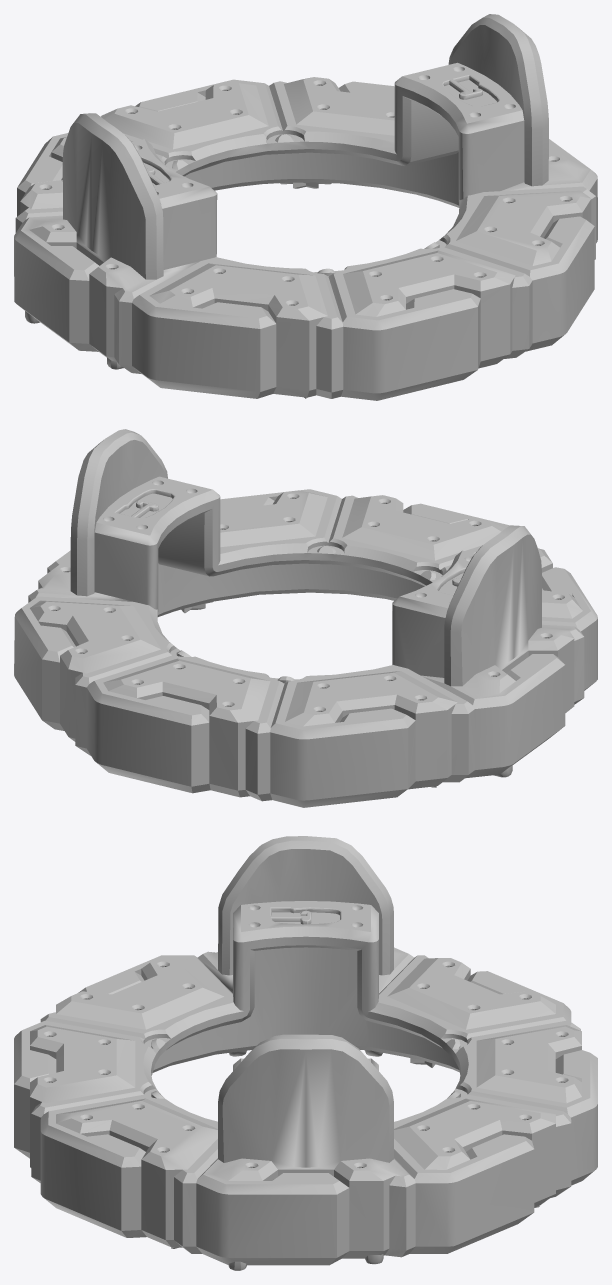
File: Gravity.obj
3 views of the same model, one above another, from view 1: azimuth 30°, elevation 25°; view 2: azimuth 150°, elevation 25°; view 3: azimuth 270°, elevation 25° (orthographic). The views are drawn at different scales.
Parts seen in each view (by area): view 1: Mesh_0013out.001; view 2: Mesh_0013out.001; view 3: Mesh_0013out.001.
Part boxes in pixels (x1,y1,x2,y2): Mesh_0013out.001: [14, 14, 597, 400]; Mesh_0013out.001: [14, 429, 597, 807]; Mesh_0013out.001: [14, 836, 597, 1270].
Bounding box in the file's own units: 0.3765 × 0.153 × 0.3765.
1 material, 1 textured.
